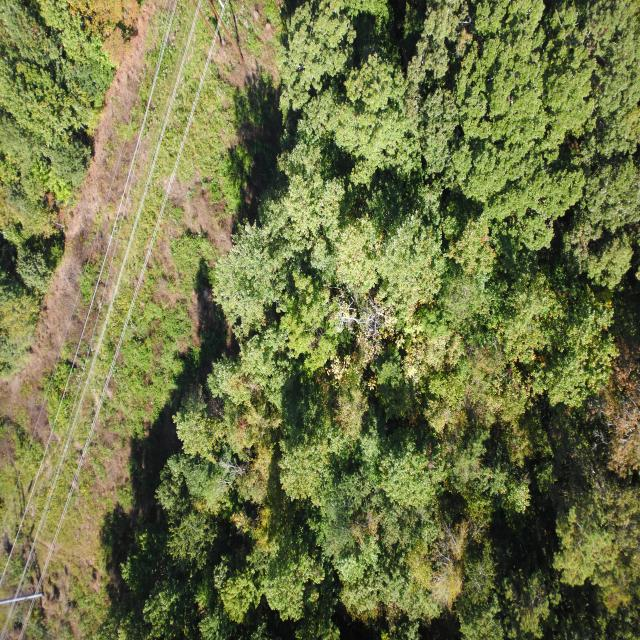Area of Interest: (124, 9, 637, 633), (8, 8, 109, 363)
